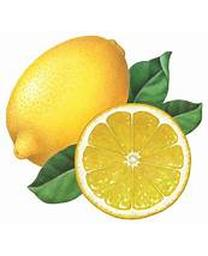lemon: (6, 34, 130, 167), (74, 101, 192, 220)
